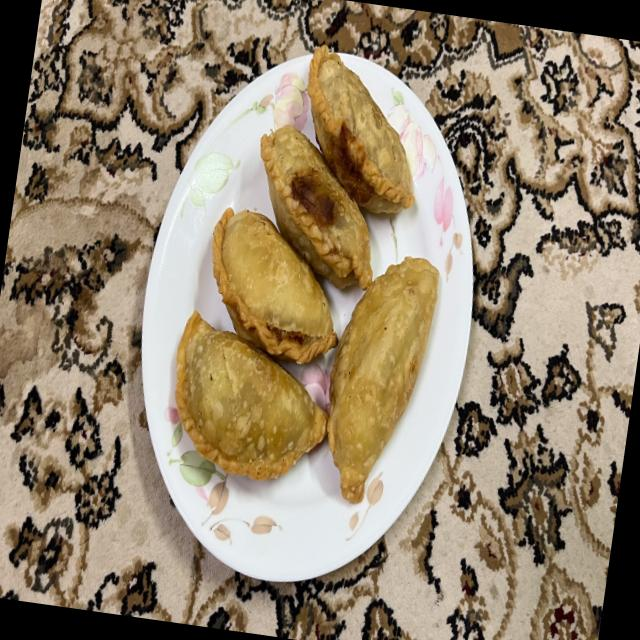karipap: (327, 256, 440, 504), (175, 311, 328, 481), (212, 208, 338, 365), (260, 126, 372, 288), (307, 46, 414, 214)
